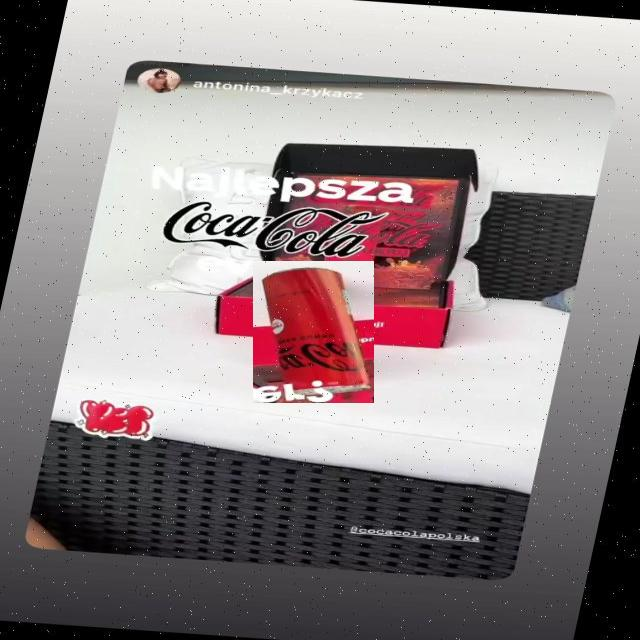coca-cola: (253, 261, 374, 403)
